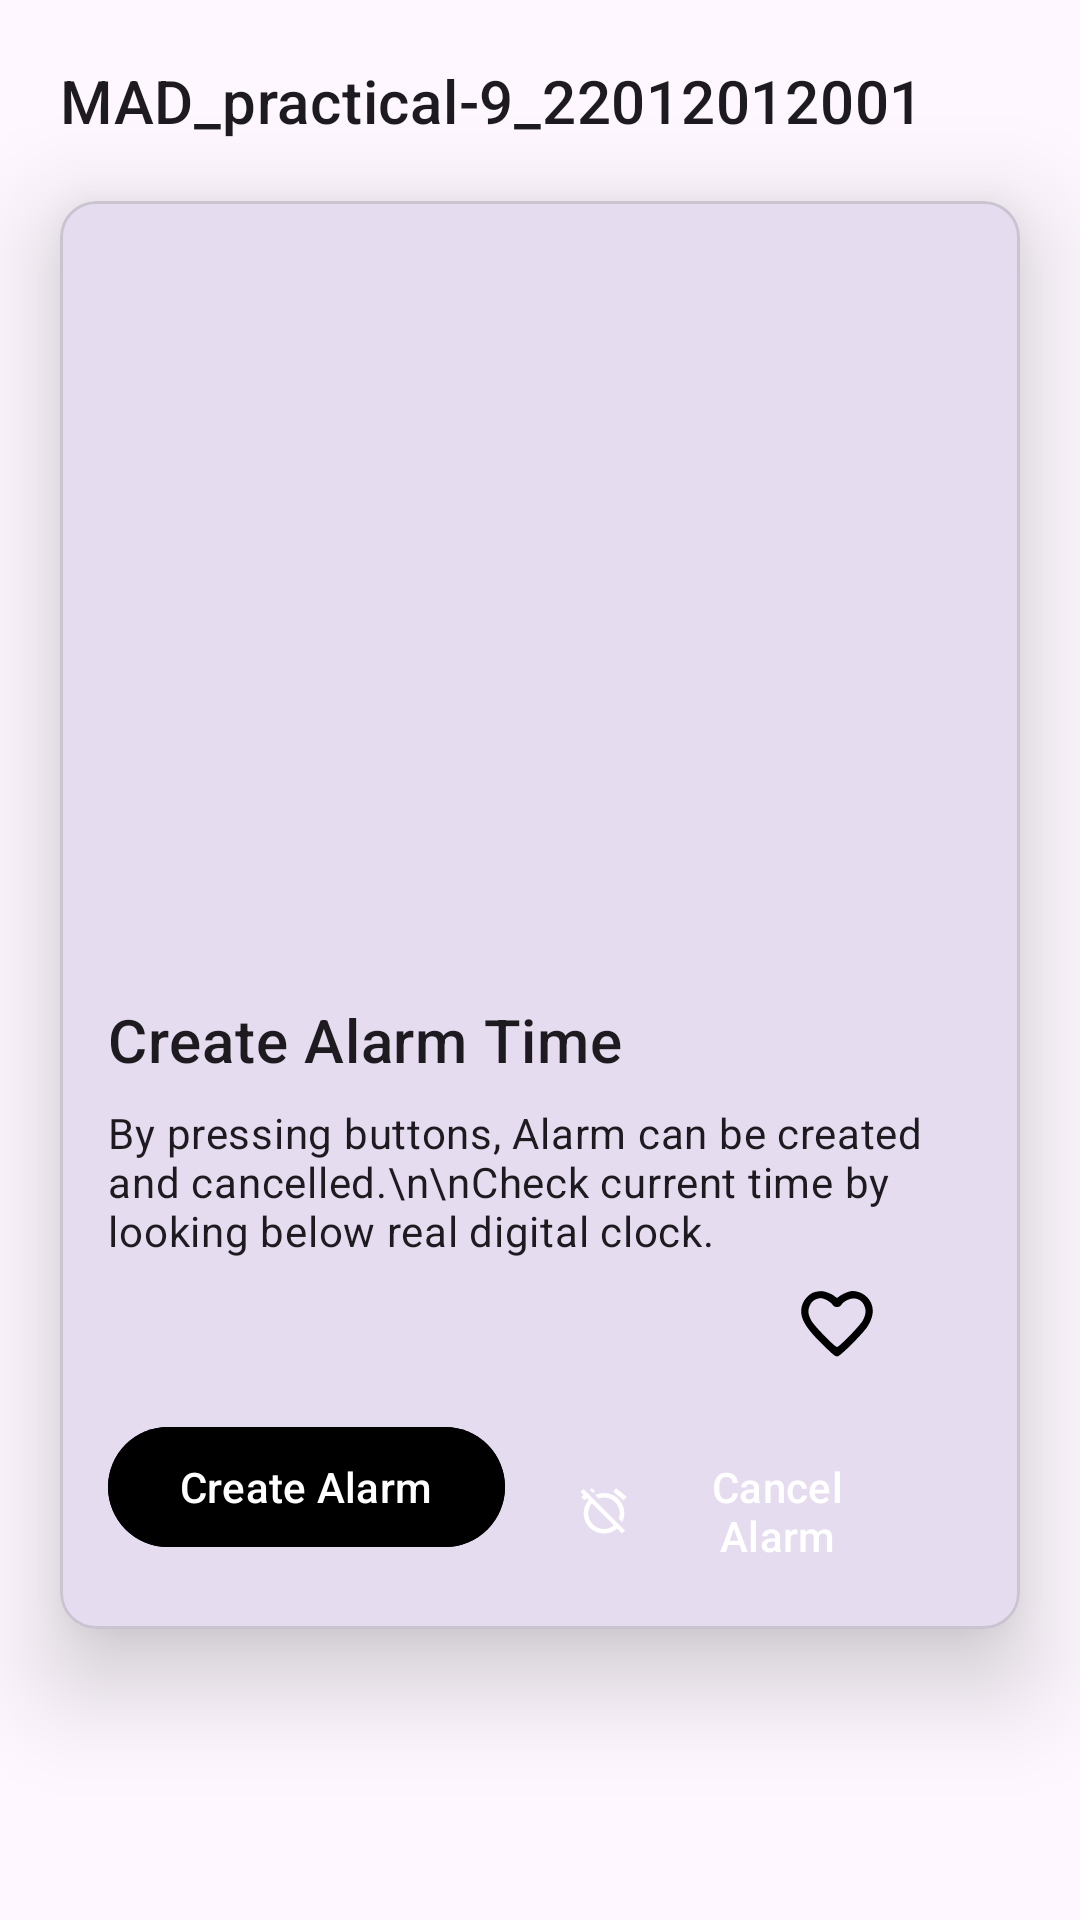

Point at icon controls on the screen. Image size 1080px×1920px, points as (x=x, y=y).
heart animation list: (x=837, y=1324)
